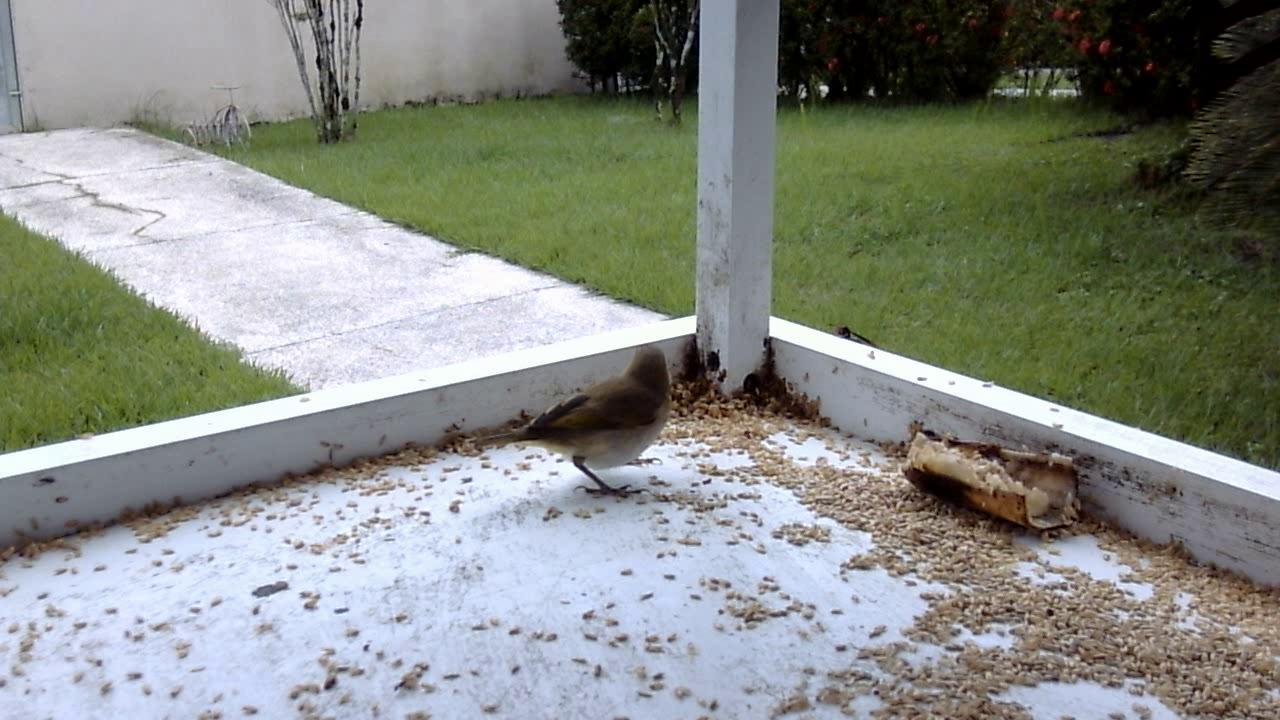canario_do_amazonas: (501, 337, 684, 499)
